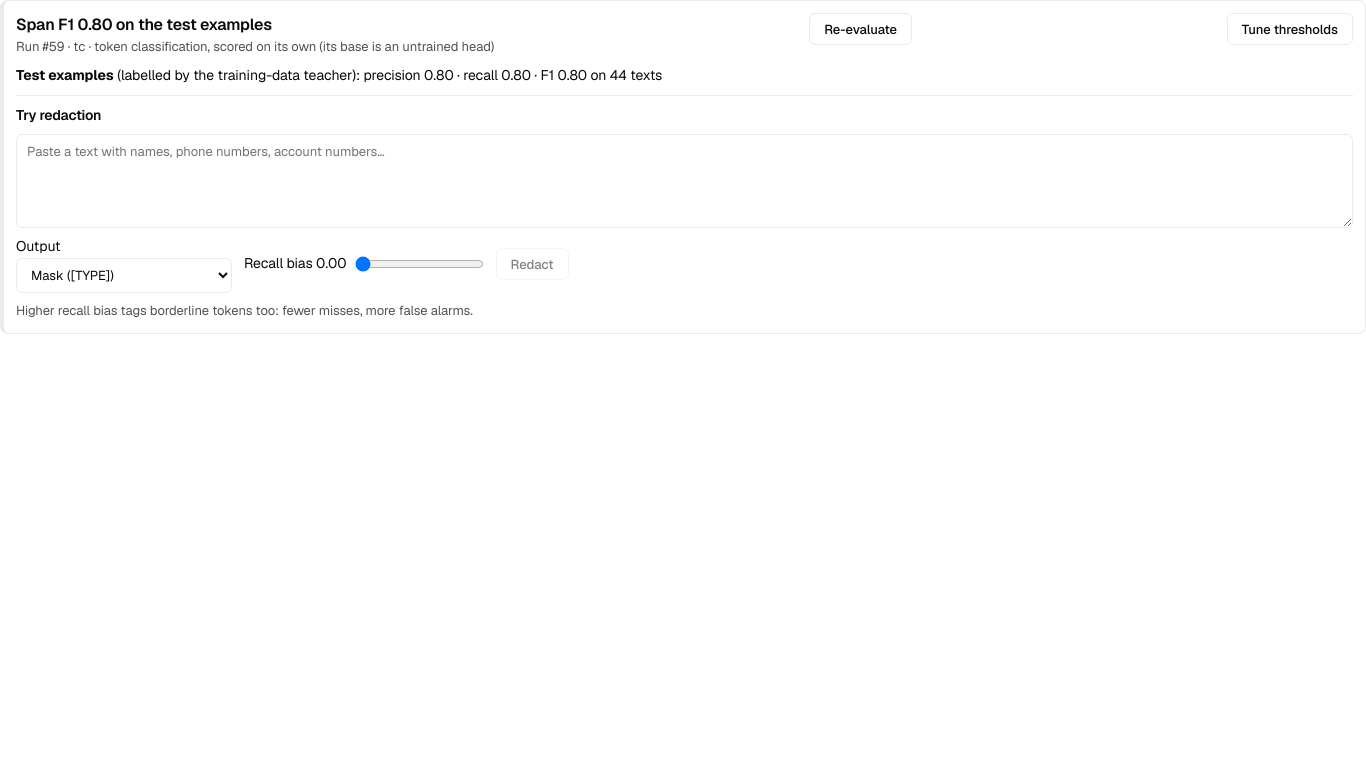
Test: EvalSummaryCard › tunes per-type thresholds for a span run with recall floors and says what changed
This screenshot has width=1366, height=768.
Click the button with test id "eval-summary-tune-thresholds".
click(1290, 29)  # box [1227, 13, 1353, 45]
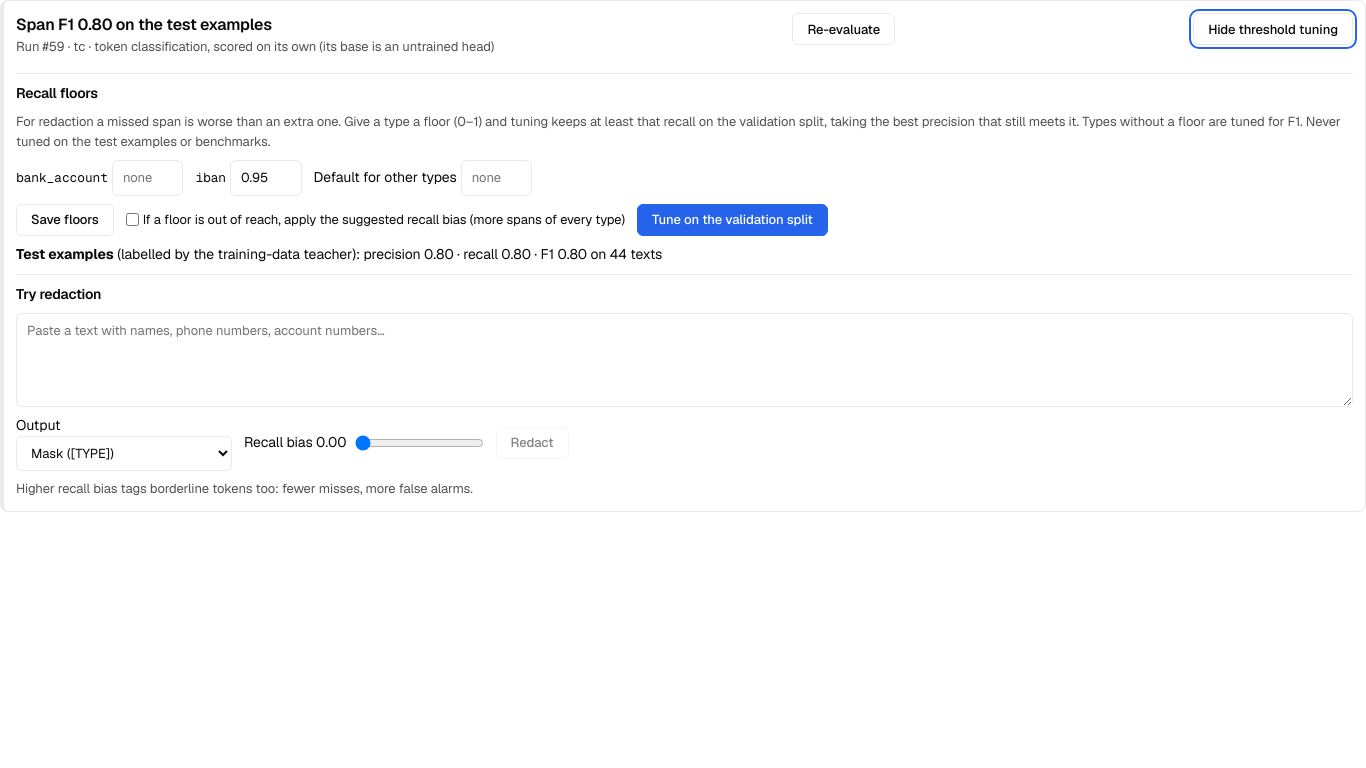
Expected: the number field with test id "span-tuner-floor-iban" holds "0.95", [230, 160, 302, 196]
Click the button with test id "eval-summary-tune-run".
click(732, 220)  # box [637, 204, 828, 236]
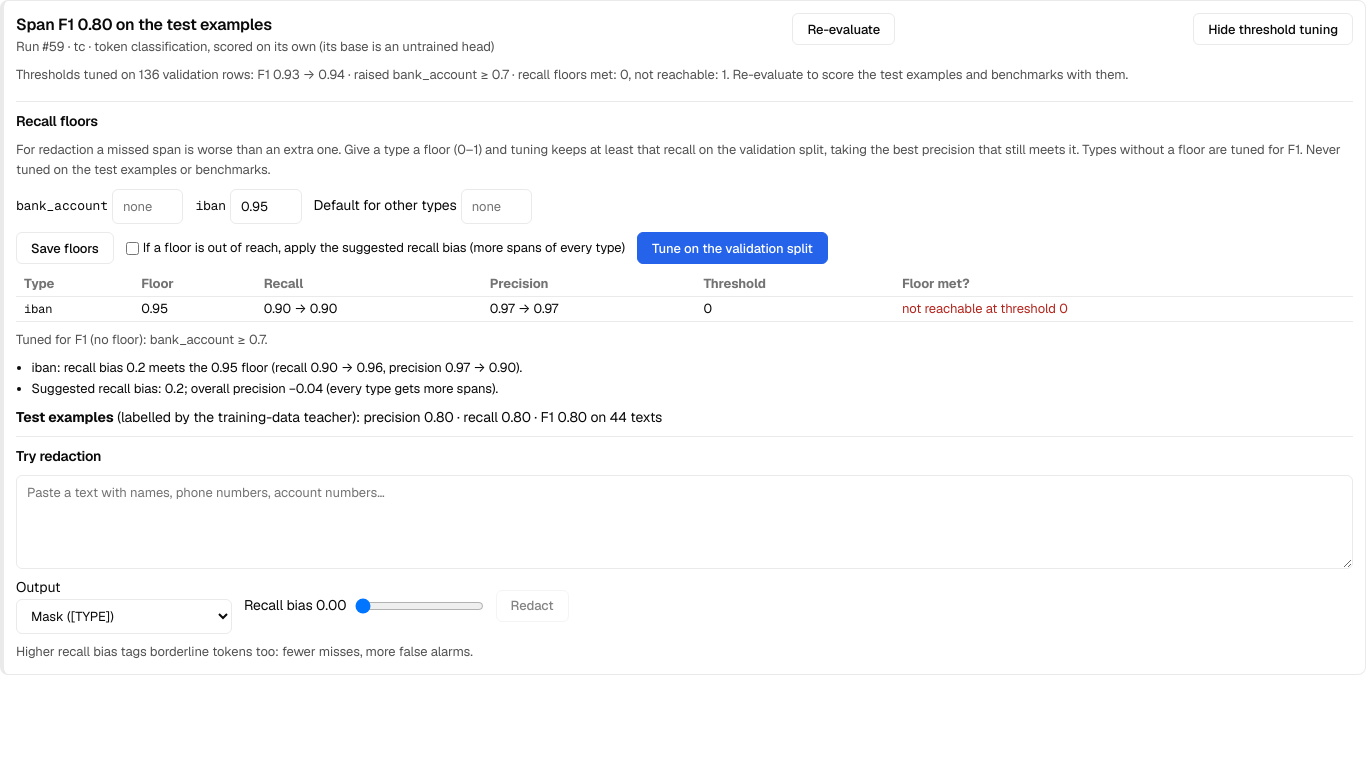
Expected: the text with test id "eval-summary-tuned" shows "Thresholds tuned on 136 validation rows: F1 0.93 → 0.94 · raised bank_account ≥ 0.7 · recall floors met: 0, not reachable: 1", [16, 66, 1128, 83]
Expected: the row with test id "span-tuner-row-iban" reads "iban 0.95 0.90 → 0.90 0.97 → 0.97 0 not reachable at threshold 0", [16, 297, 1353, 322]
Expected: the list with test id "span-tuner-bias-suggestion" shows "iban: recall bias 0.2 meets the 0.95 floor (recall 0.90 → 0.96, precision 0.97 → 0.90).", [32, 360, 522, 376]
